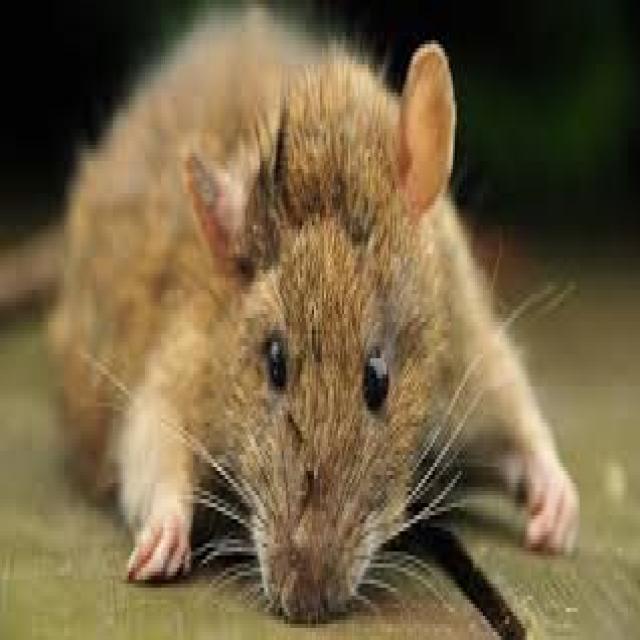rat: (54, 4, 596, 640)
